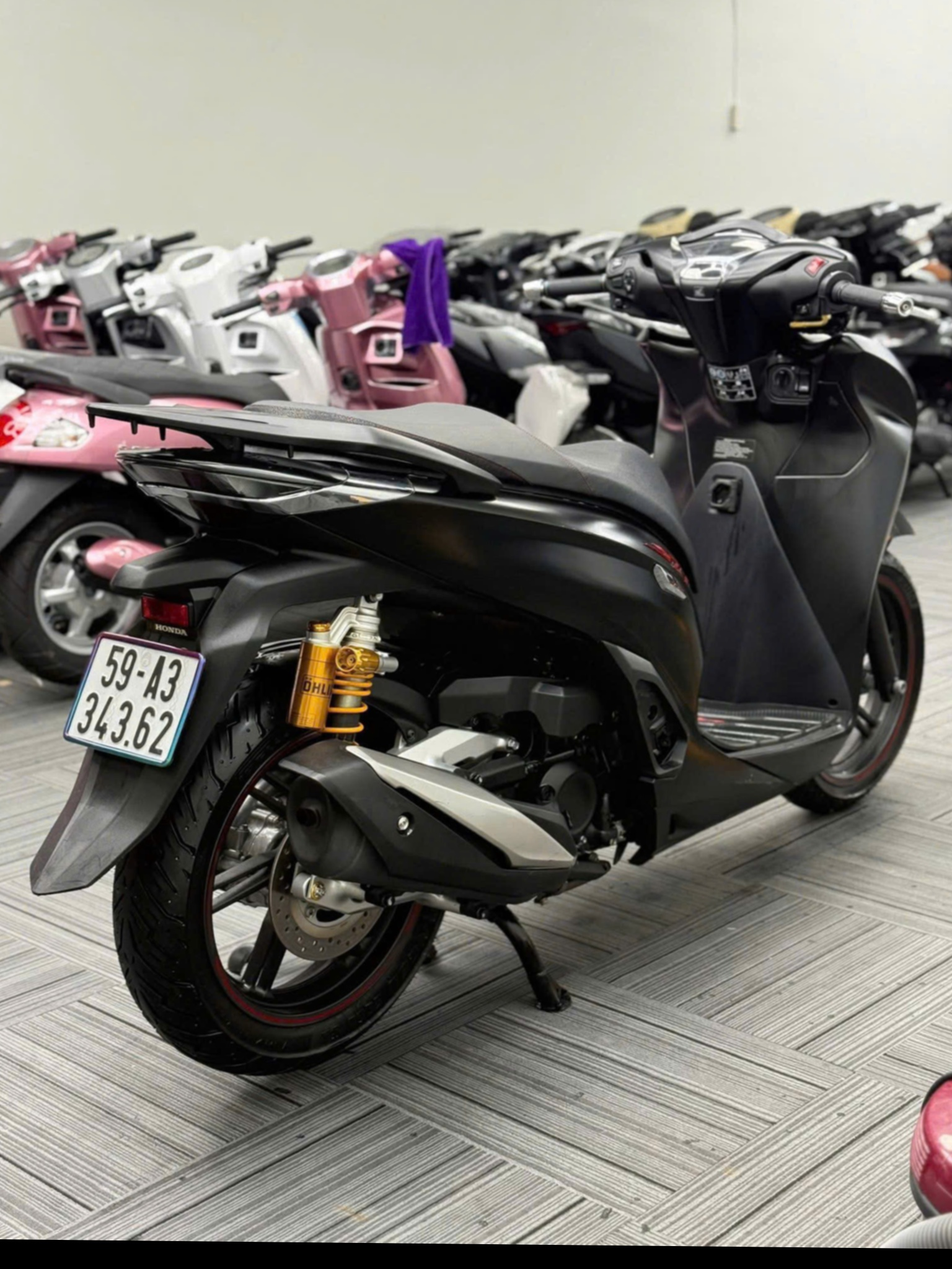Bien-so: (92, 590, 245, 750)
